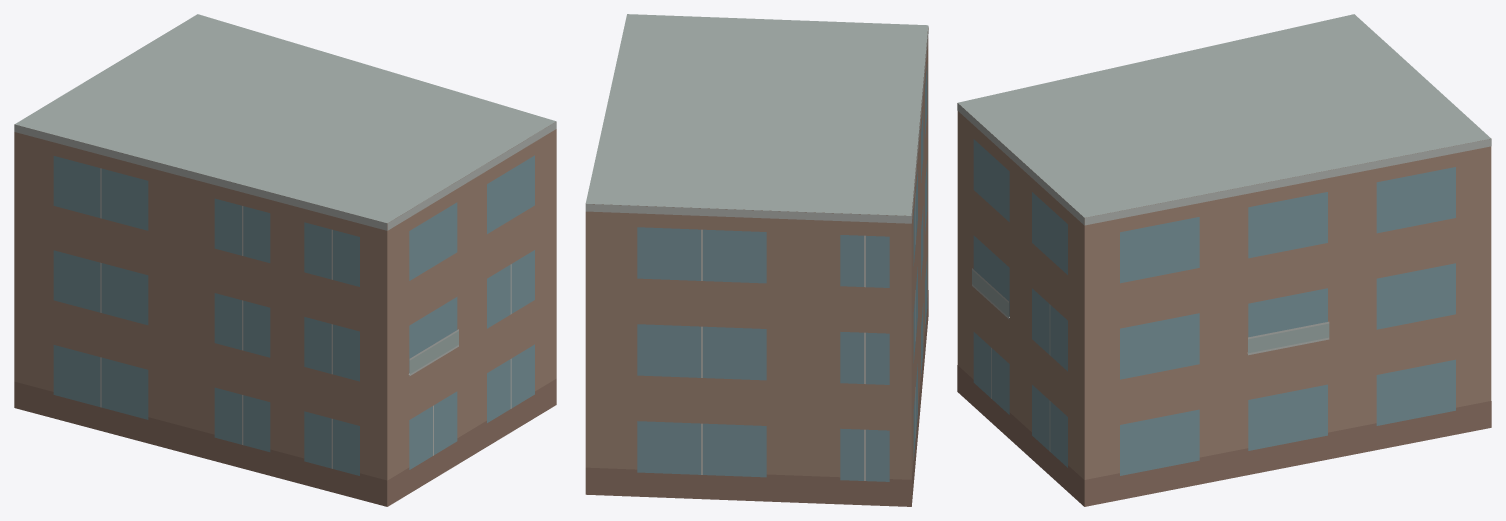
Rendered from survey-upis-32721286.glb.
The picture shows the model from 3 angles, left to right: view 1: azimuth 30°, elevation 25°; view 2: azimuth 150°, elevation 25°; view 3: azimuth 270°, elevation 25°; orthographic projection. The views are drawn at different scales.
Visible parts, largest first — view 1: survey-upis-32721286.tmp; view 2: survey-upis-32721286.tmp; view 3: survey-upis-32721286.tmp.
Part boxes in pixels (box(x1,y1,x2,y2)): survey-upis-32721286.tmp: box(14, 14, 556, 506); survey-upis-32721286.tmp: box(585, 14, 928, 506); survey-upis-32721286.tmp: box(957, 14, 1491, 506).
Bounding box in the file's own units: 13.85 × 9.15 × 15.33.
